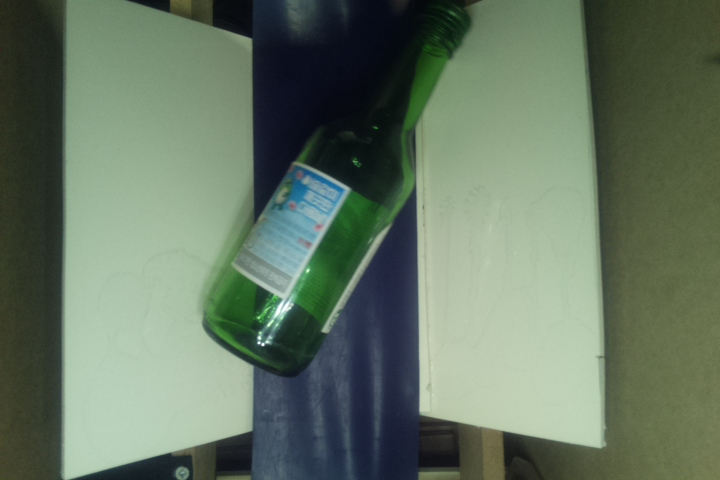soju: (199, 1, 479, 379)
